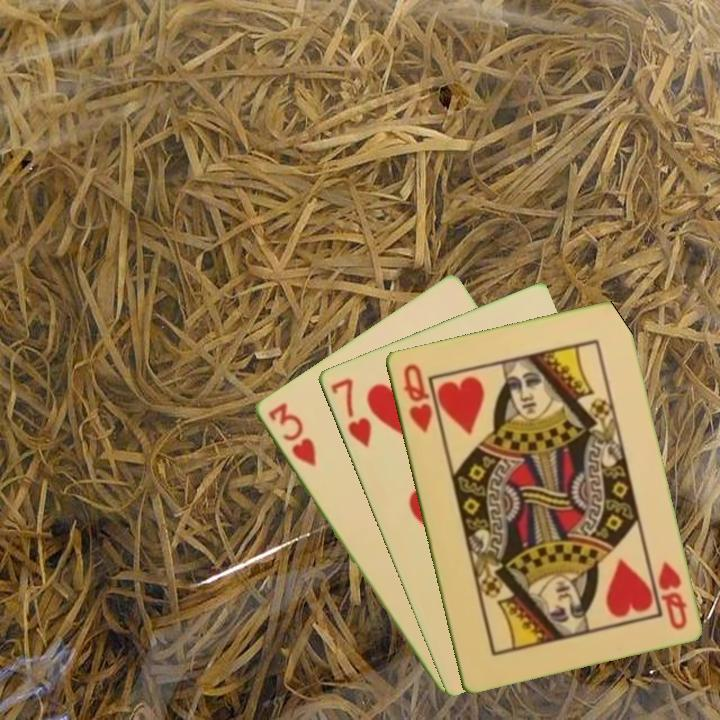3h: (264, 399, 319, 470)
7h: (326, 374, 374, 451)
Qh: (653, 558, 690, 633), (399, 360, 435, 436)
